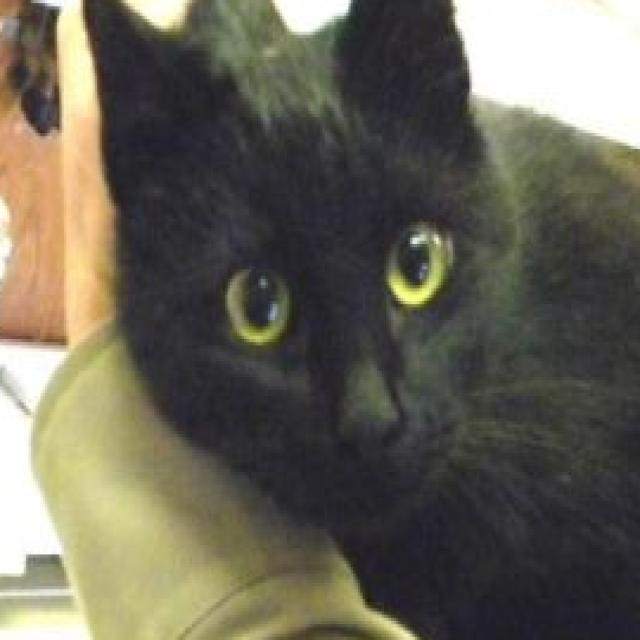Bombay: (78, 0, 640, 640)
